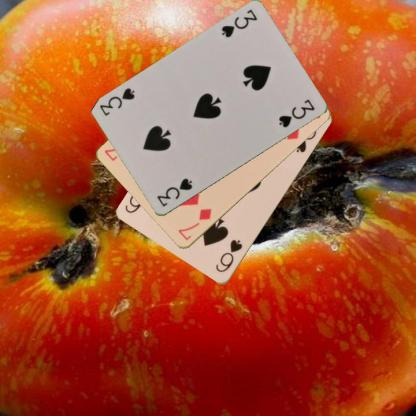3s: (218, 6, 259, 40), (154, 176, 194, 209)
6s: (212, 237, 244, 274)
7d: (175, 206, 213, 242)
